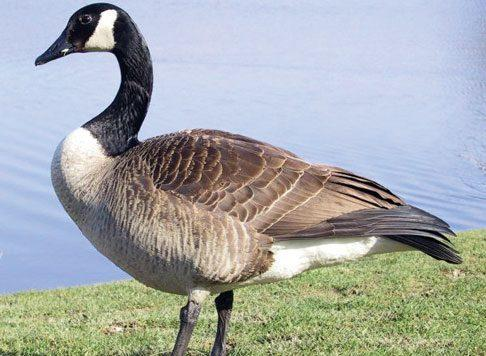Canadian-Goose: (34, 3, 459, 356)
